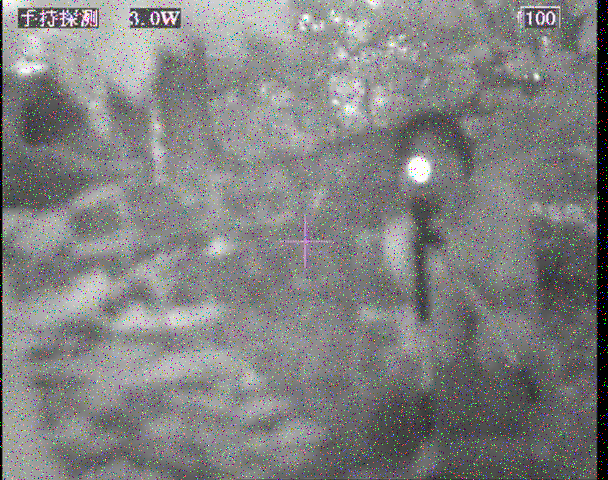my: (406, 156, 431, 184)
